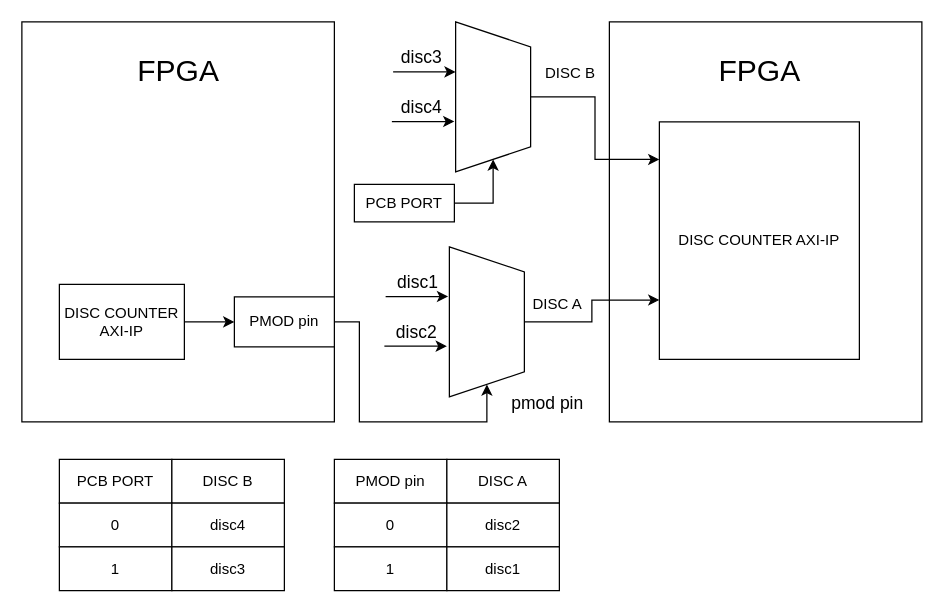
Image size: 944x613. Some labels were removed from this diagram. Each missing label, with the box of its shape:
MUX1: (448, 246, 524, 397)
MUX2: (454, 21, 531, 172)
